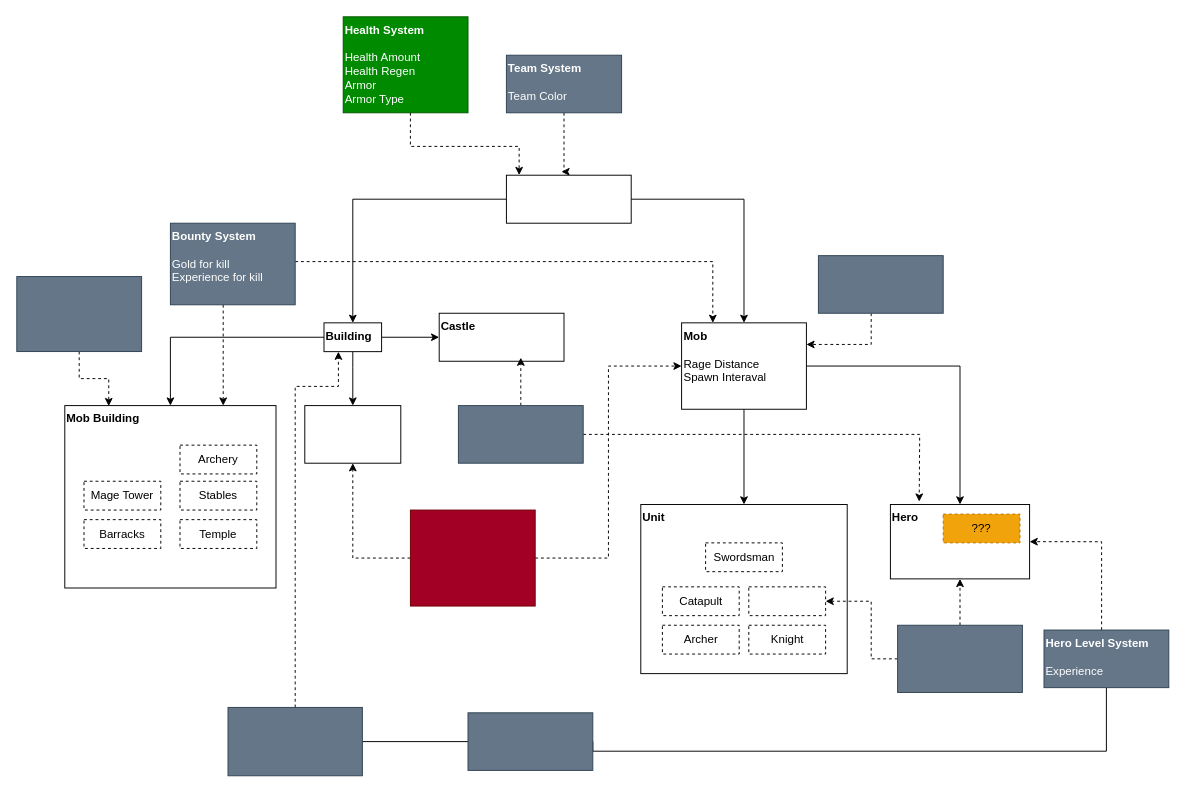
Image size: 1186x793. Some labels were removed from this diagram. The centre of each missing label's shape, as x and y in pixels:
"Abilities System Abilities" belongs at pixel 520 434.
"Building Level System інша логіка начислення левелів" belongs at pixel 294 741.
"Damage System Damage Amount Damage Type Attack Speed Attack Distance" belongs at pixel 472 557.
"GameEntity" belongs at pixel 568 198.
"Level System Level" belongs at pixel 530 741.
"Mage" belongs at pixel 787 601.
"Mana System Mana Mana Regen" belongs at pixel 959 658.
"Mob Spawning System SpawnMobs()" belongs at pixel 79 314.
"Movement System Movement Speed" belongs at pixel 880 284.
"Tower" belongs at pixel 352 434.
